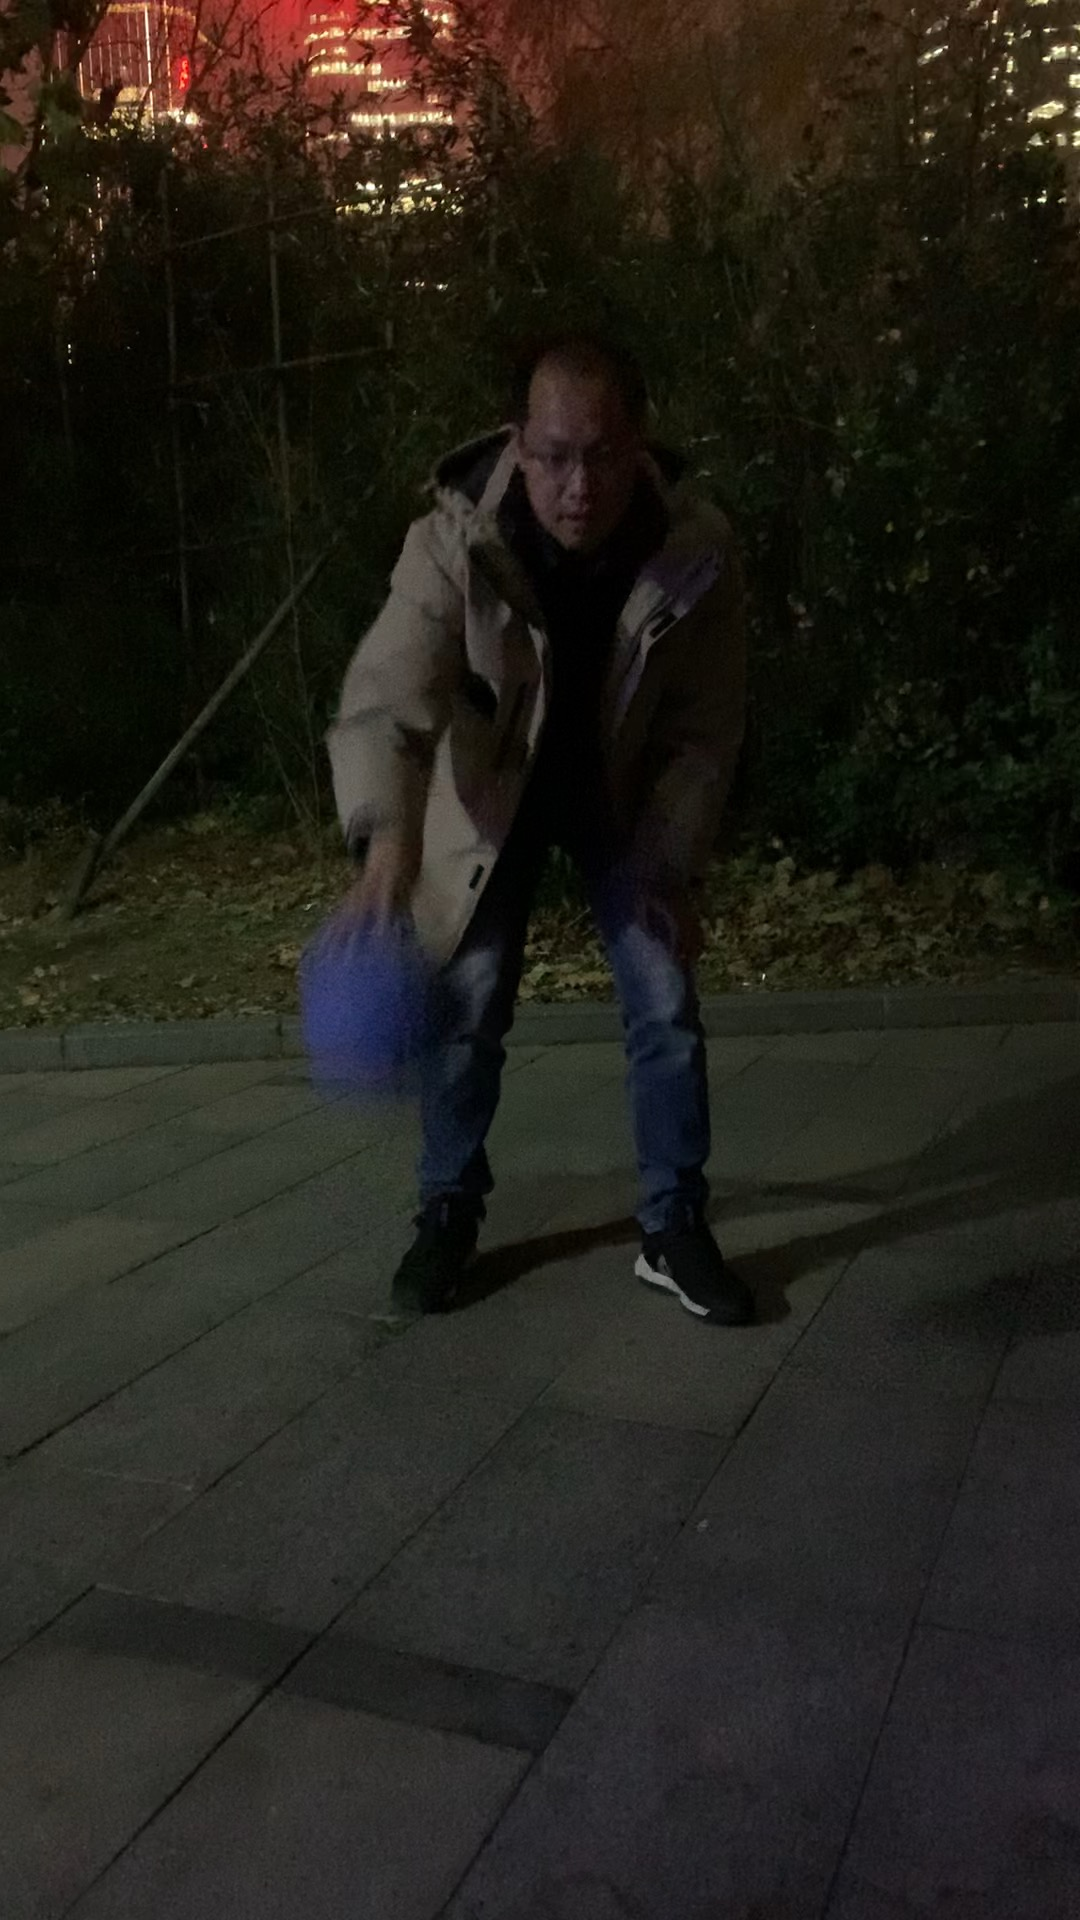ball: (305, 928, 473, 1102)
